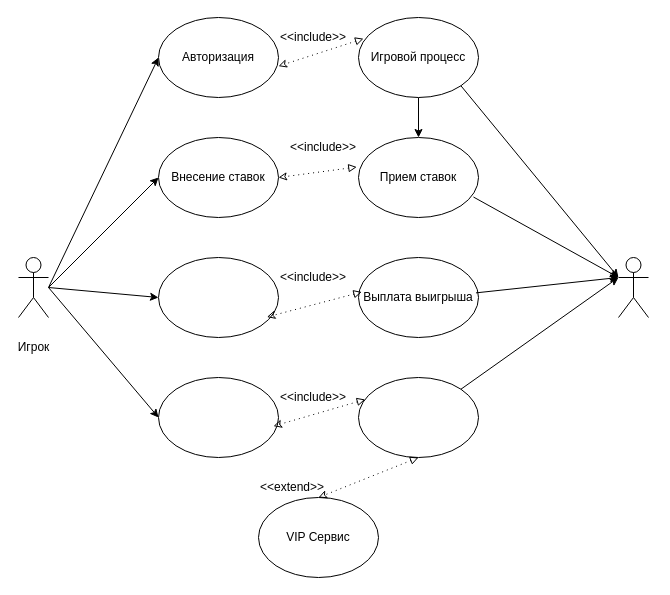
Some shapes in this 670 by 595 pixel diagram are drawn without their labels. Here are the shapes that lost their labels. From the top down, the centre of each, then its label:
the point at 218,297: Получение выигрыша
the point at 633,287: Крупье
the point at 218,417: Вывод средств
the point at 418,417: Программа лояльности
